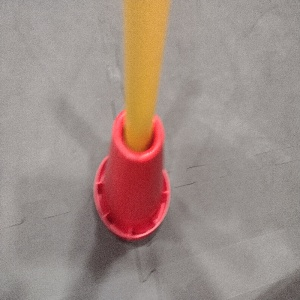Red_1: (90, 111, 171, 242)
